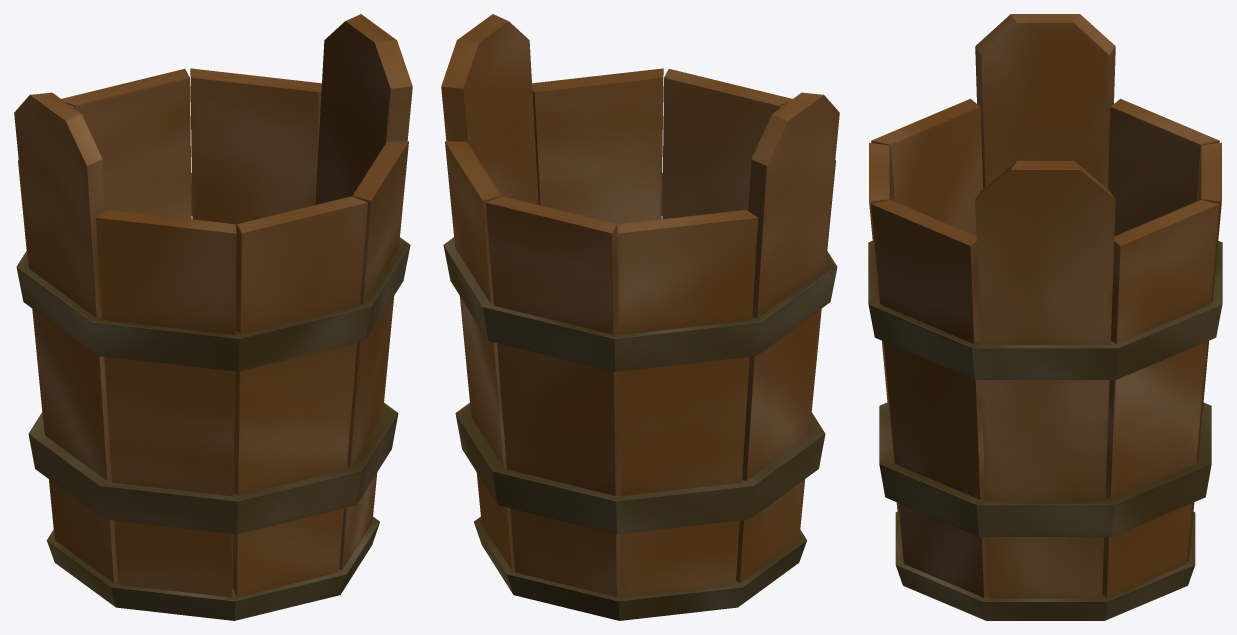
Rendered from EmptyBucket.fbx.
The picture shows the model from 3 angles, left to right: view 1: azimuth 30°, elevation 25°; view 2: azimuth 150°, elevation 25°; view 3: azimuth 270°, elevation 25°; orthographic projection. The views are drawn at different scales.
Parts seen in each view (by area): view 1: EmptyBucket; view 2: EmptyBucket; view 3: EmptyBucket.
Boxes of the visible parts, x1,y1,x2,y2 form: EmptyBucket: (14, 14, 412, 620); EmptyBucket: (441, 14, 839, 620); EmptyBucket: (868, 14, 1222, 620).
Bounding box in the file's own units: 145 × 204 × 139.
